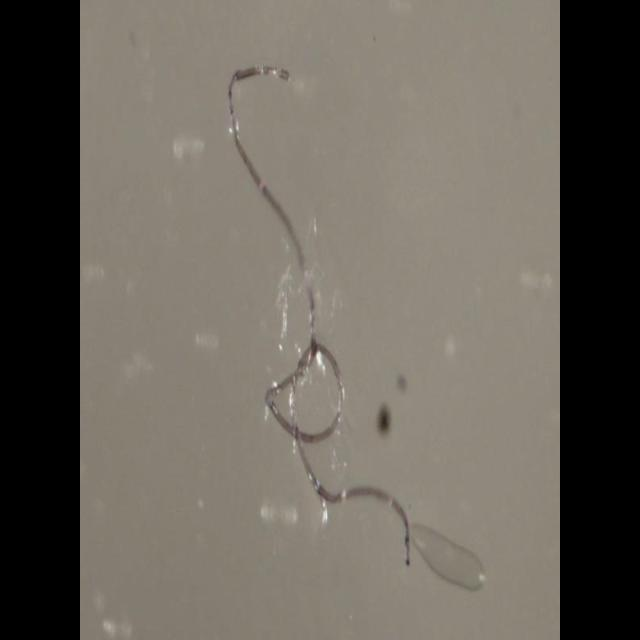Fibre: (228, 62, 487, 590)
